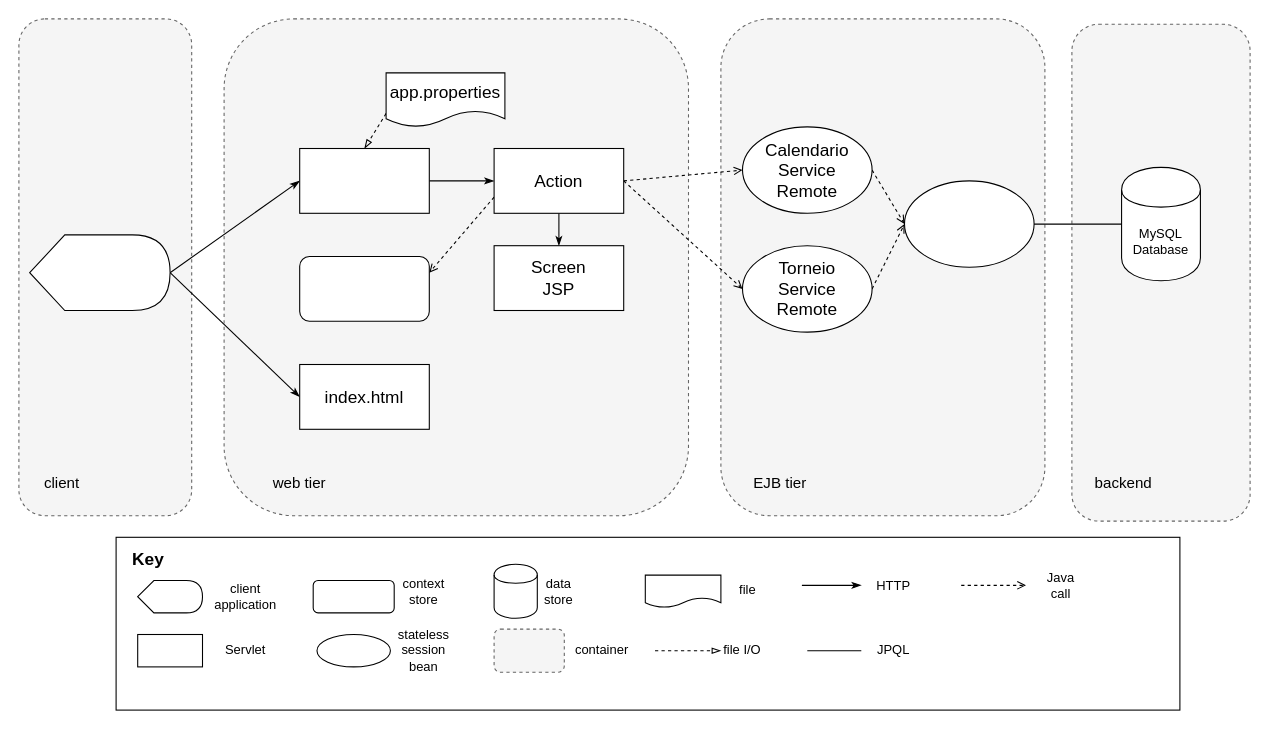
This 1269x729 diagram has some shape labels left out. The shapes that lost their labels are listed below. From the top down, each one's box as (x1, y1, x2, y2) in pixels, then its label:
(299, 147, 429, 213): Front Controller Servlet
(903, 180, 1034, 267): Entity Catalog
(29, 234, 170, 310): Web Browser
(299, 255, 429, 321): JSP Data Model
